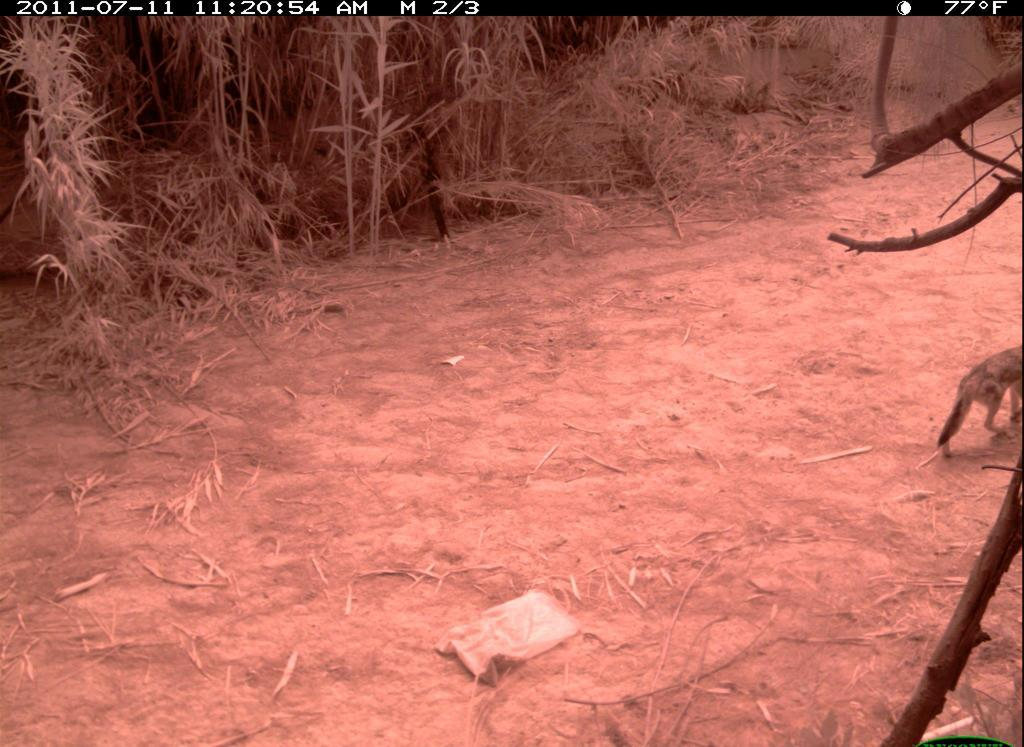coyote: (937, 343, 1024, 460)
